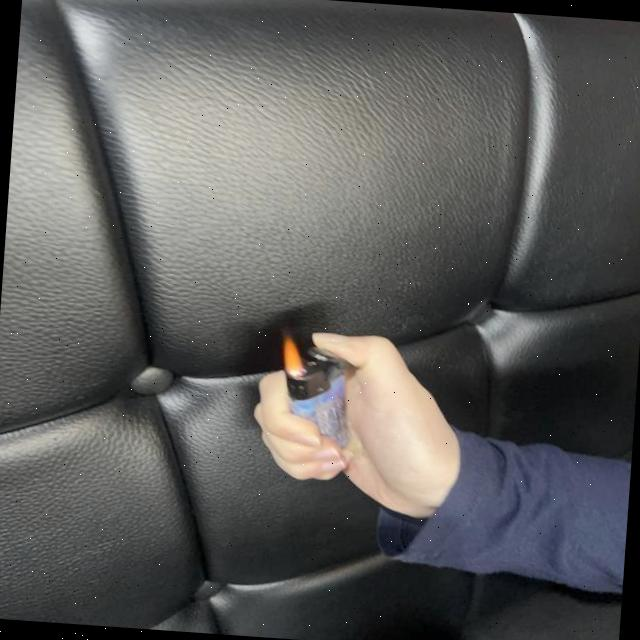fire: (280, 330, 310, 380)
